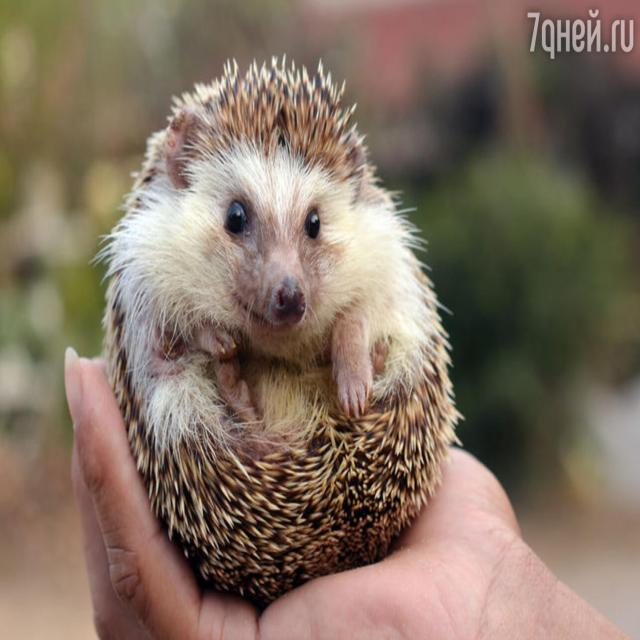Hedgehog: (107, 71, 458, 599)
